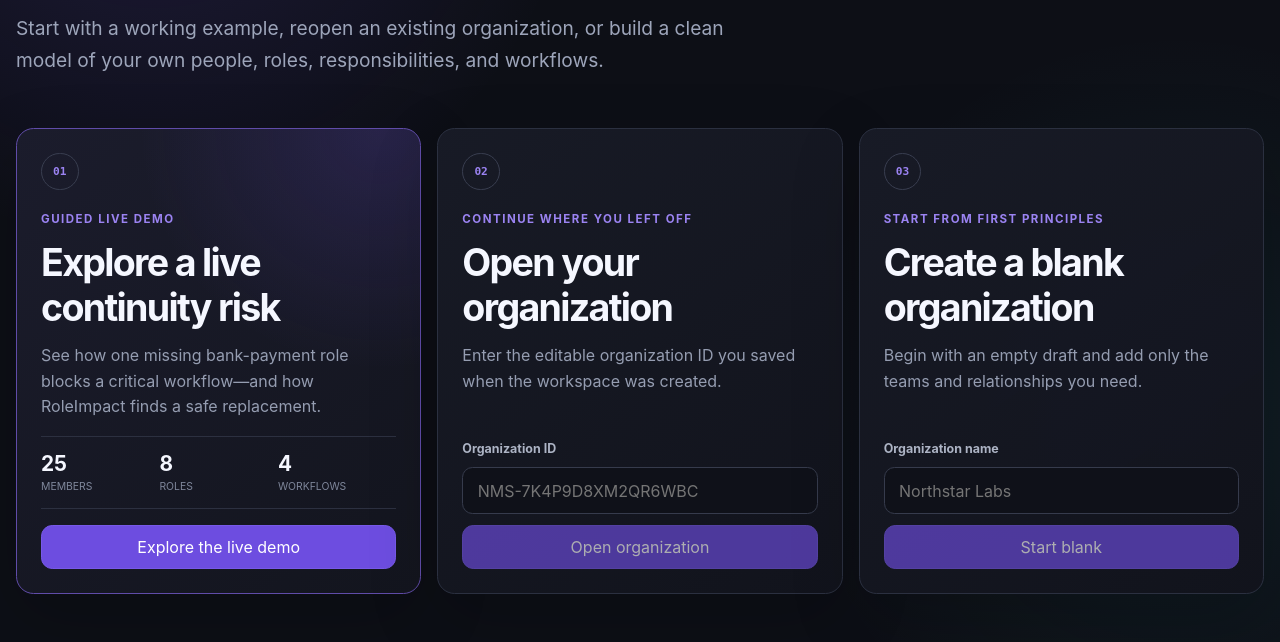
Test: App › introduces the Northstar continuity demo without Harborline branding
(page scrolled)
Expected: the heading "Explore a live continuity risk" is shown, [41, 240, 280, 330]
Click the button "Explore the live demo" at (219, 547), box [41, 525, 396, 569]
(page scrolled)
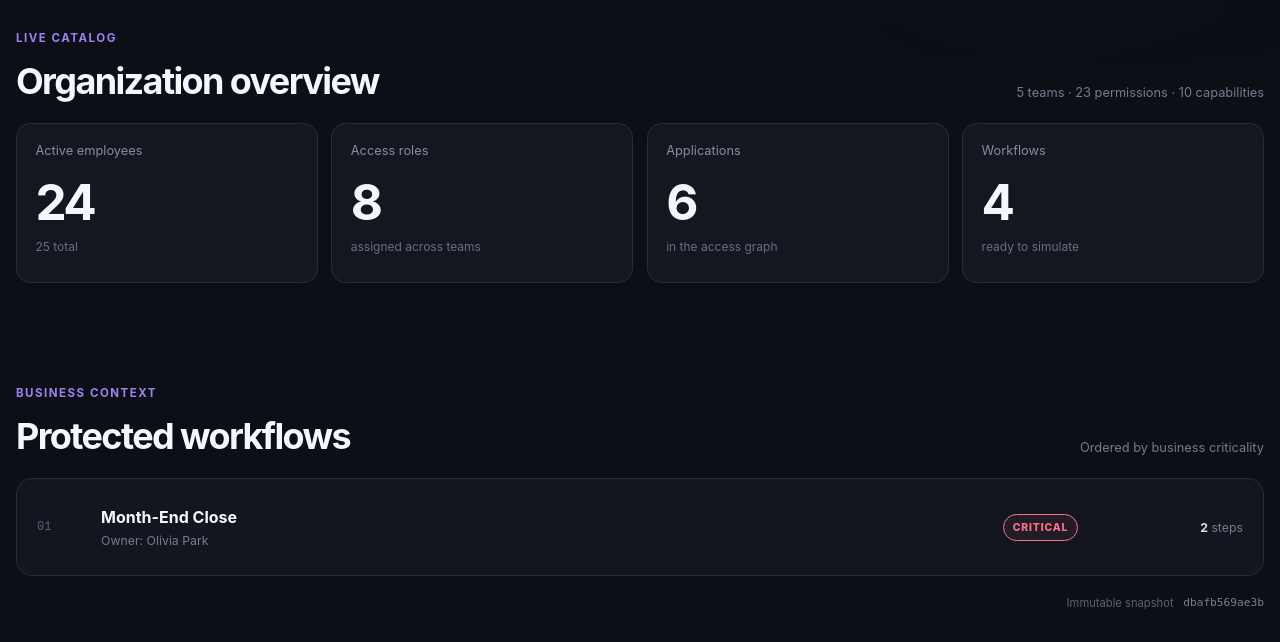
Now the text "24" is shown, box [35, 172, 94, 232]
Now the text "Immutable snapshot" is shown, box [1067, 596, 1174, 610]
